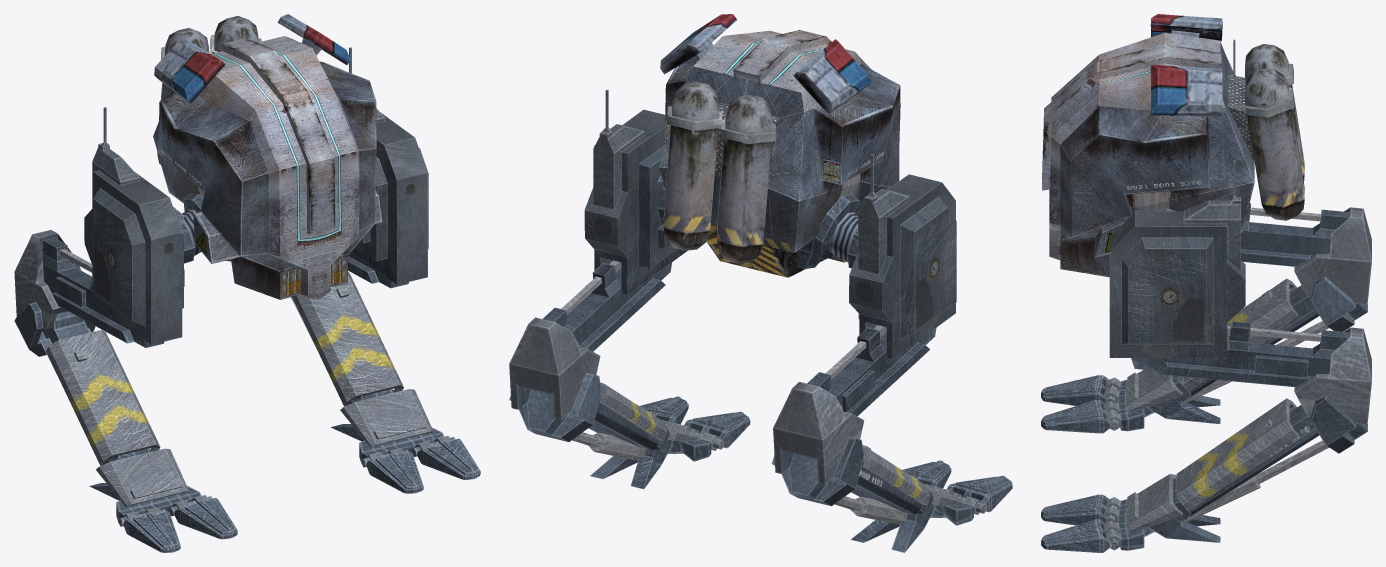
Rendered from MechaT.fbx.
3 renders of one model, left to right at view 1: azimuth 30°, elevation 25°; view 2: azimuth 150°, elevation 25°; view 3: azimuth 270°, elevation 25°, orthographic. The views are drawn at different scales.
Visible parts, largest first — view 1: Mech; view 2: Mech; view 3: Mech.
Part boxes in pixels (x1,y1,x2,y2): Mech: (14,14,480,552); Mech: (509,14,1012,552); Mech: (1041,14,1371,552).
Size of what is drawn, in the model's own units: 11.39 by 13.91 by 9.7.
